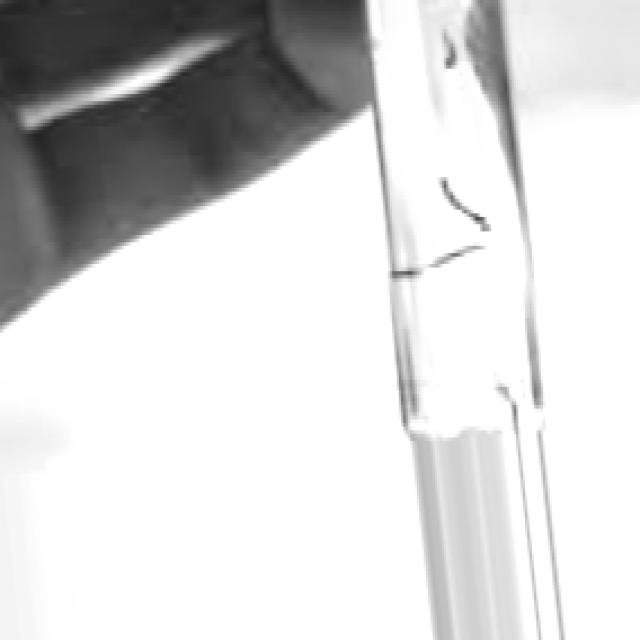larvas: (396, 246, 482, 282), (442, 174, 488, 235), (443, 34, 457, 72)
